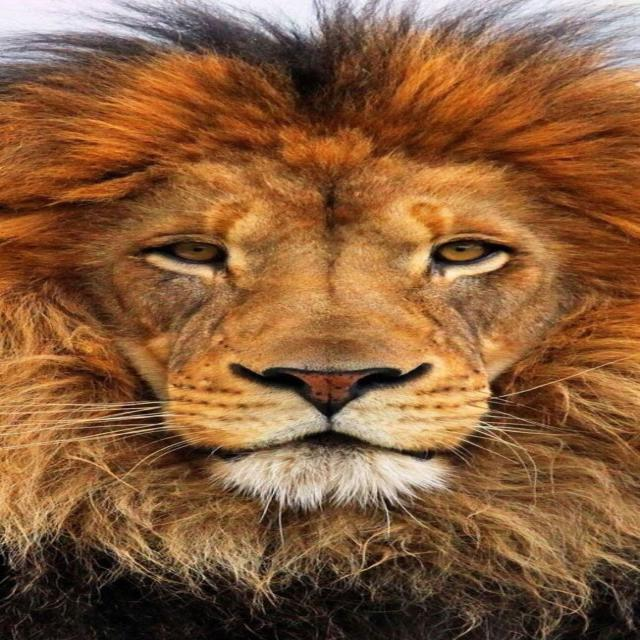Lion: (13, 29, 639, 633)
